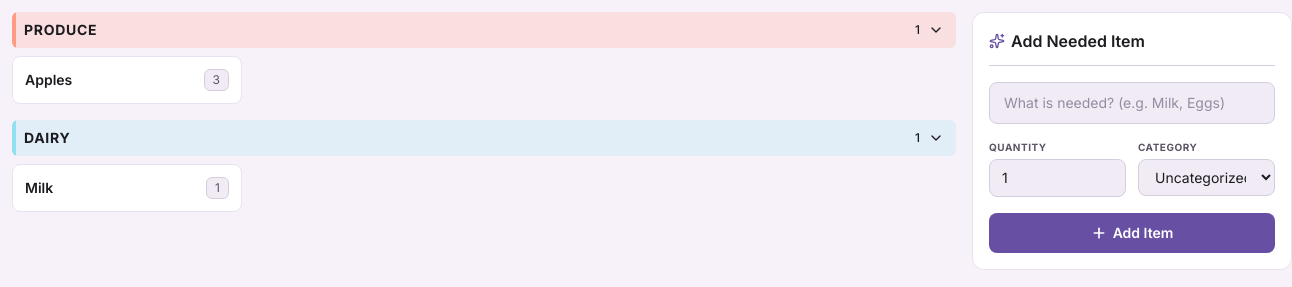
NeedPhase Component › folds an aisle away when its header is tapped, and back again
The width and height of the screenshot is (1292, 287).
What coordinates should you click on to do the following:
click the button "Produce 1"
I would click on:
 (61, 30)
Its box is x1=12 y1=12 x2=956 y2=48.
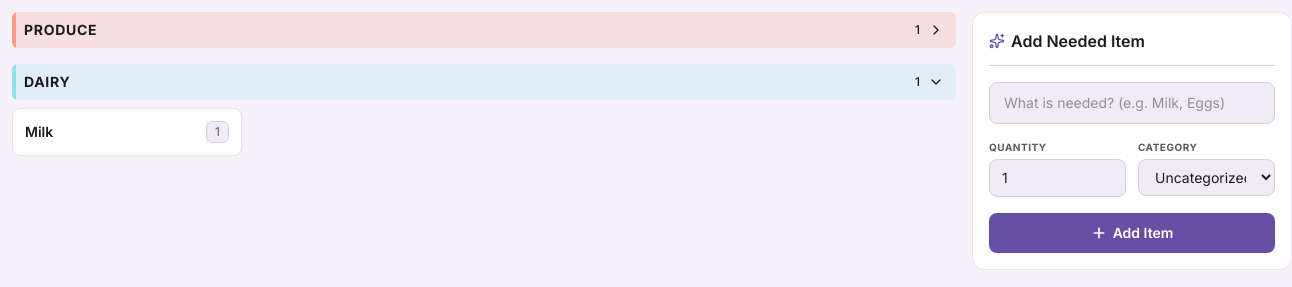
Expected: the text "Milk" is shown, x1=25 y1=122 x2=53 y2=142
Now the button "Produce 1" is collapsed
Now the text "Apples" is gone
What coordinates should you click on to do the following:
click the button "Produce 1"
I would click on:
 (61, 30)
Its box is x1=12 y1=12 x2=956 y2=48.
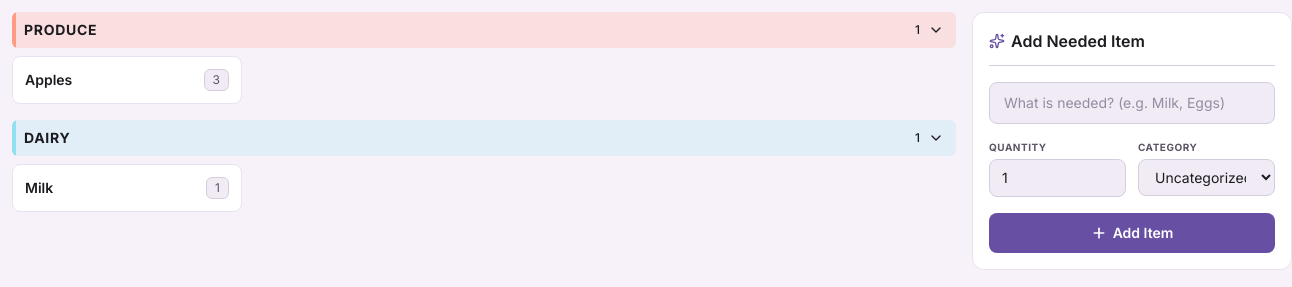
Now the text "Apples" is shown, box x1=25 y1=70 x2=72 y2=90
